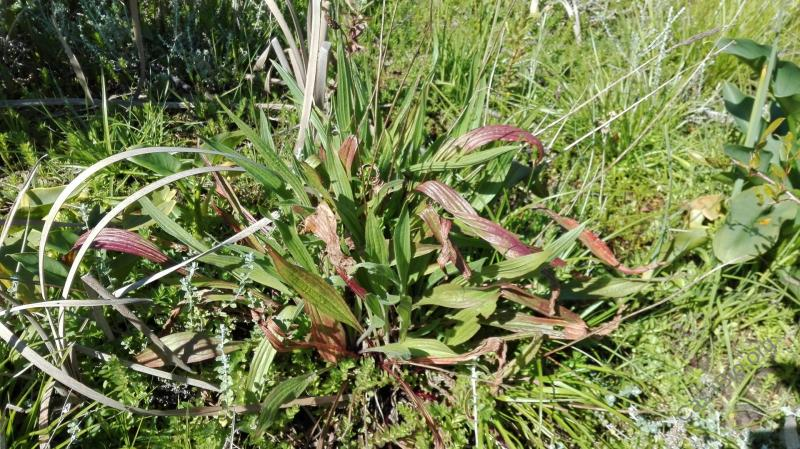buckhorn plantain: (214, 108, 594, 384)
